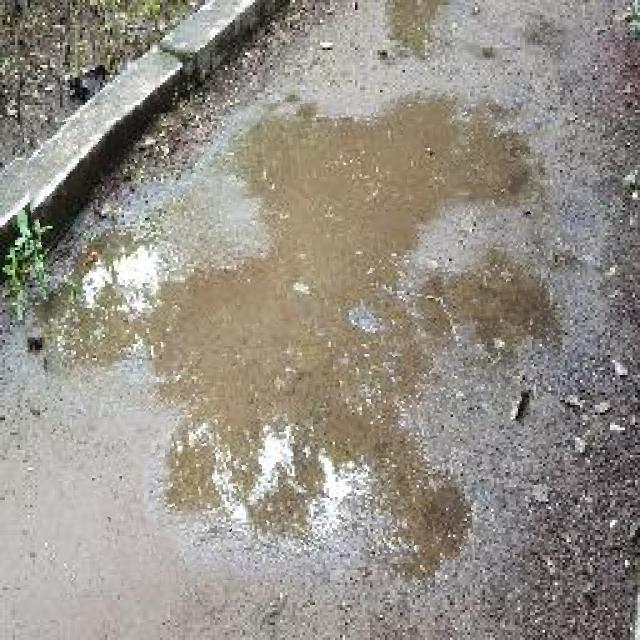puddle: (33, 92, 563, 584)
